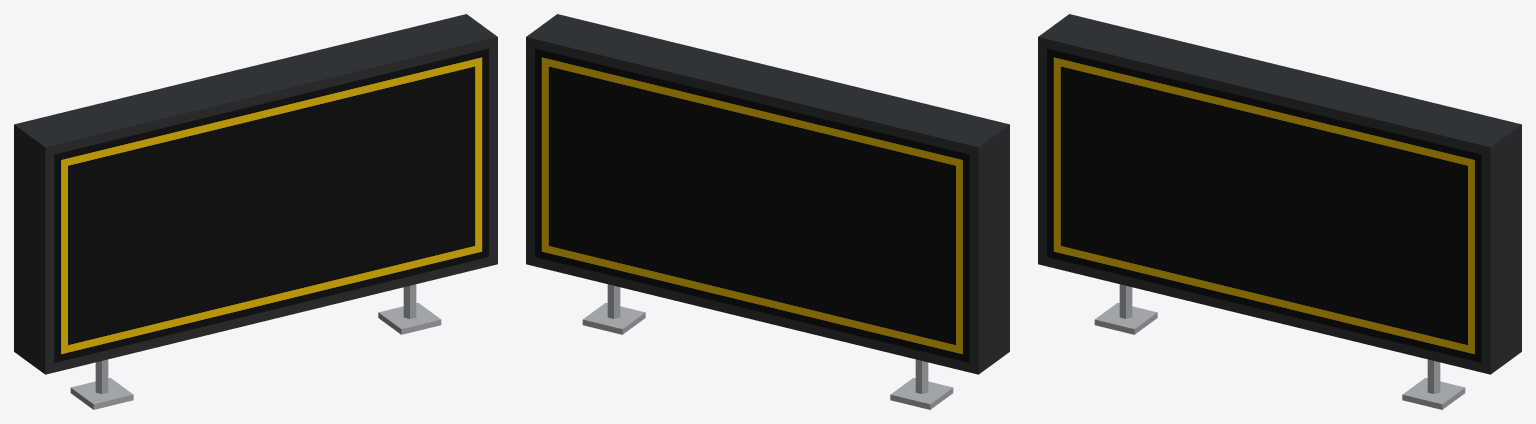
File: taxi_sign.glb
3 views of the same model, side by side, from view 1: azimuth 30°, elevation 25°; view 2: azimuth 150°, elevation 25°; view 3: azimuth 330°, elevation 25° (orthographic).
Parts seen in each view (by area): view 1: LOD0; view 2: LOD0; view 3: LOD0.
Boxes of the visible parts, <box> form: LOD0: <box>14,14,497,409</box>; LOD0: <box>526,14,1009,409</box>; LOD0: <box>1038,14,1521,409</box>.
Size of the model in its own units: 2.5 by 1.47 by 0.3.
Materials: 3 (1 with a texture image).
